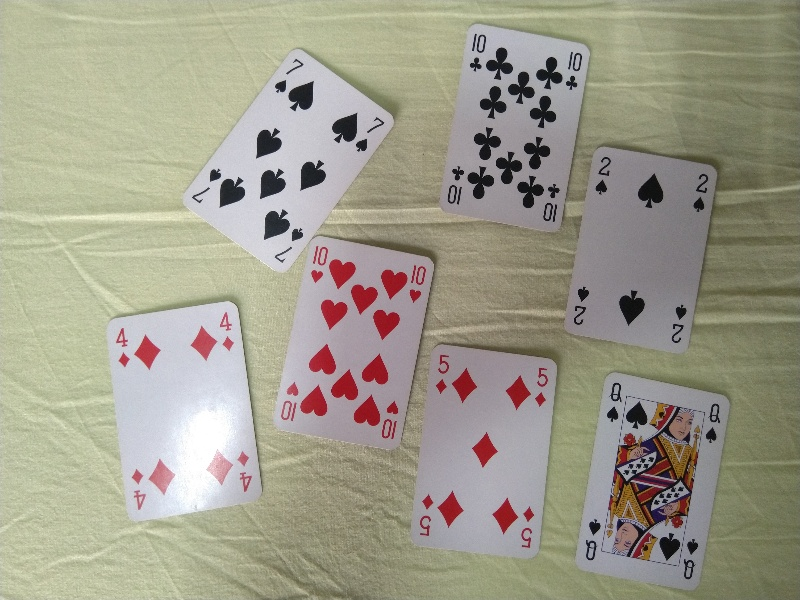2s: (593, 153, 614, 200), (570, 284, 591, 329), (667, 302, 688, 346), (691, 172, 711, 214)
4d: (114, 325, 133, 371), (235, 447, 254, 493), (130, 466, 149, 512), (217, 311, 235, 354)
5d: (532, 364, 552, 409), (417, 492, 435, 541), (518, 505, 536, 550), (434, 351, 449, 398)
7s: (189, 167, 224, 205), (354, 114, 387, 153), (273, 227, 305, 265), (273, 56, 305, 93)
Qs: (581, 517, 603, 563), (681, 536, 701, 583), (702, 403, 723, 447), (605, 381, 623, 424)
Tc: (446, 162, 468, 208), (541, 182, 564, 224), (467, 31, 487, 72), (564, 51, 583, 91)
Th: (278, 381, 299, 424), (380, 398, 399, 442), (407, 261, 426, 304), (310, 243, 328, 284)
